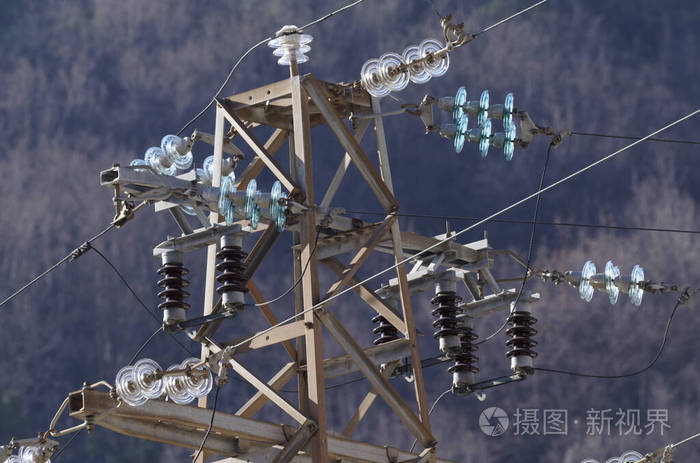insulator: (362, 37, 451, 99), (219, 172, 293, 233), (575, 260, 651, 307), (444, 118, 519, 159), (132, 130, 195, 177), (450, 87, 521, 123), (115, 357, 163, 407), (165, 357, 213, 407), (427, 289, 467, 341), (448, 325, 485, 379), (504, 313, 543, 362), (154, 260, 190, 312), (213, 247, 251, 295), (267, 35, 311, 67), (365, 310, 404, 344)
